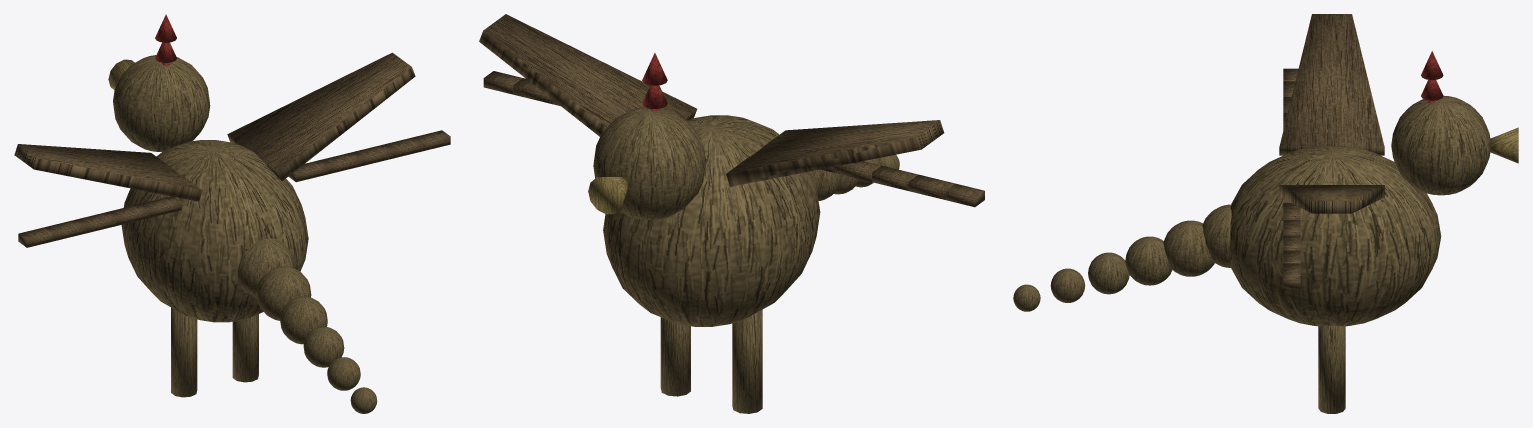
Rendered from cockatrice.glb.
3 renders of one model, left to right at view 1: azimuth 30°, elevation 25°; view 2: azimuth 150°, elevation 25°; view 3: azimuth 270°, elevation 25°, orthographic. The views are drawn at different scales.
Parts seen in each view (by area): view 1: Body, Wing.001, Head, Wing, Leg, TailSeg.001, TailSeg, Leg.001, TailSeg.002, TailSeg.003, TailSeg.004, Feather.006 (+10 smaller); view 2: Body, Wing.001, Head, Wing, Leg, Leg.001, Beak, Feather.003, Feather.004, Feather.002, Feather.009, Feather.001 (+3 smaller); view 3: Body, Wing, Head, Wing.001, Leg.001, TailSeg.001, TailSeg.002, TailSeg, TailSeg.003, TailSeg.004, Beak, TailSeg.005 (+1 smaller).
Part boxes in pixels (x1,y1,x2,y2): Body: (121, 140, 308, 322); Wing.001: (227, 52, 415, 181); Head: (113, 55, 210, 151); Wing: (14, 144, 202, 201); Leg: (171, 307, 197, 397); TailSeg.001: (256, 266, 311, 320); TailSeg: (238, 238, 294, 296); Leg.001: (232, 314, 258, 382); TailSeg.002: (280, 296, 327, 344); TailSeg.003: (303, 327, 344, 367); TailSeg.004: (327, 357, 360, 390); Feather.006: (319, 152, 361, 174); Body: (603, 115, 820, 326); Wing.001: (479, 14, 697, 136); Head: (593, 107, 705, 219); Wing: (726, 120, 944, 186); Leg: (732, 309, 762, 413); Leg.001: (660, 317, 690, 396); Beak: (588, 177, 628, 214); Feather.003: (906, 174, 954, 199); Feather.004: (935, 182, 984, 207); Feather.002: (871, 165, 918, 190); Feather.009: (483, 71, 522, 96); Feather.001: (832, 161, 881, 181); Body: (1230, 145, 1441, 326); Wing: (1279, 14, 1384, 155); Head: (1391, 95, 1490, 195); Wing.001: (1279, 185, 1384, 213); Leg.001: (1318, 325, 1345, 413); TailSeg.001: (1163, 220, 1214, 276); TailSeg.002: (1125, 236, 1172, 285); TailSeg: (1202, 204, 1231, 267); TailSeg.003: (1088, 252, 1129, 294); TailSeg.004: (1050, 268, 1085, 302); Beak: (1490, 127, 1518, 163); TailSeg.005: (1013, 284, 1040, 311).
Bounding box in the file's own units: 1.1 × 0.83 × 1.11.
Materials: 4 (4 with a texture image).
